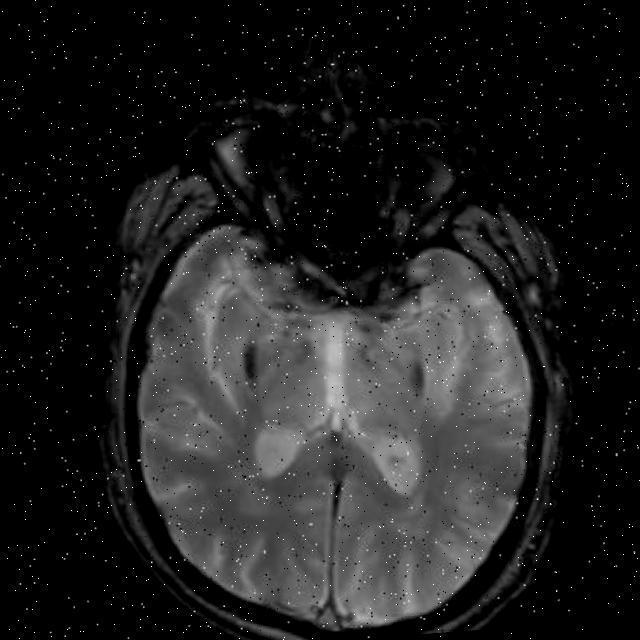MCI: (218, 297, 281, 400), (384, 319, 444, 414)
